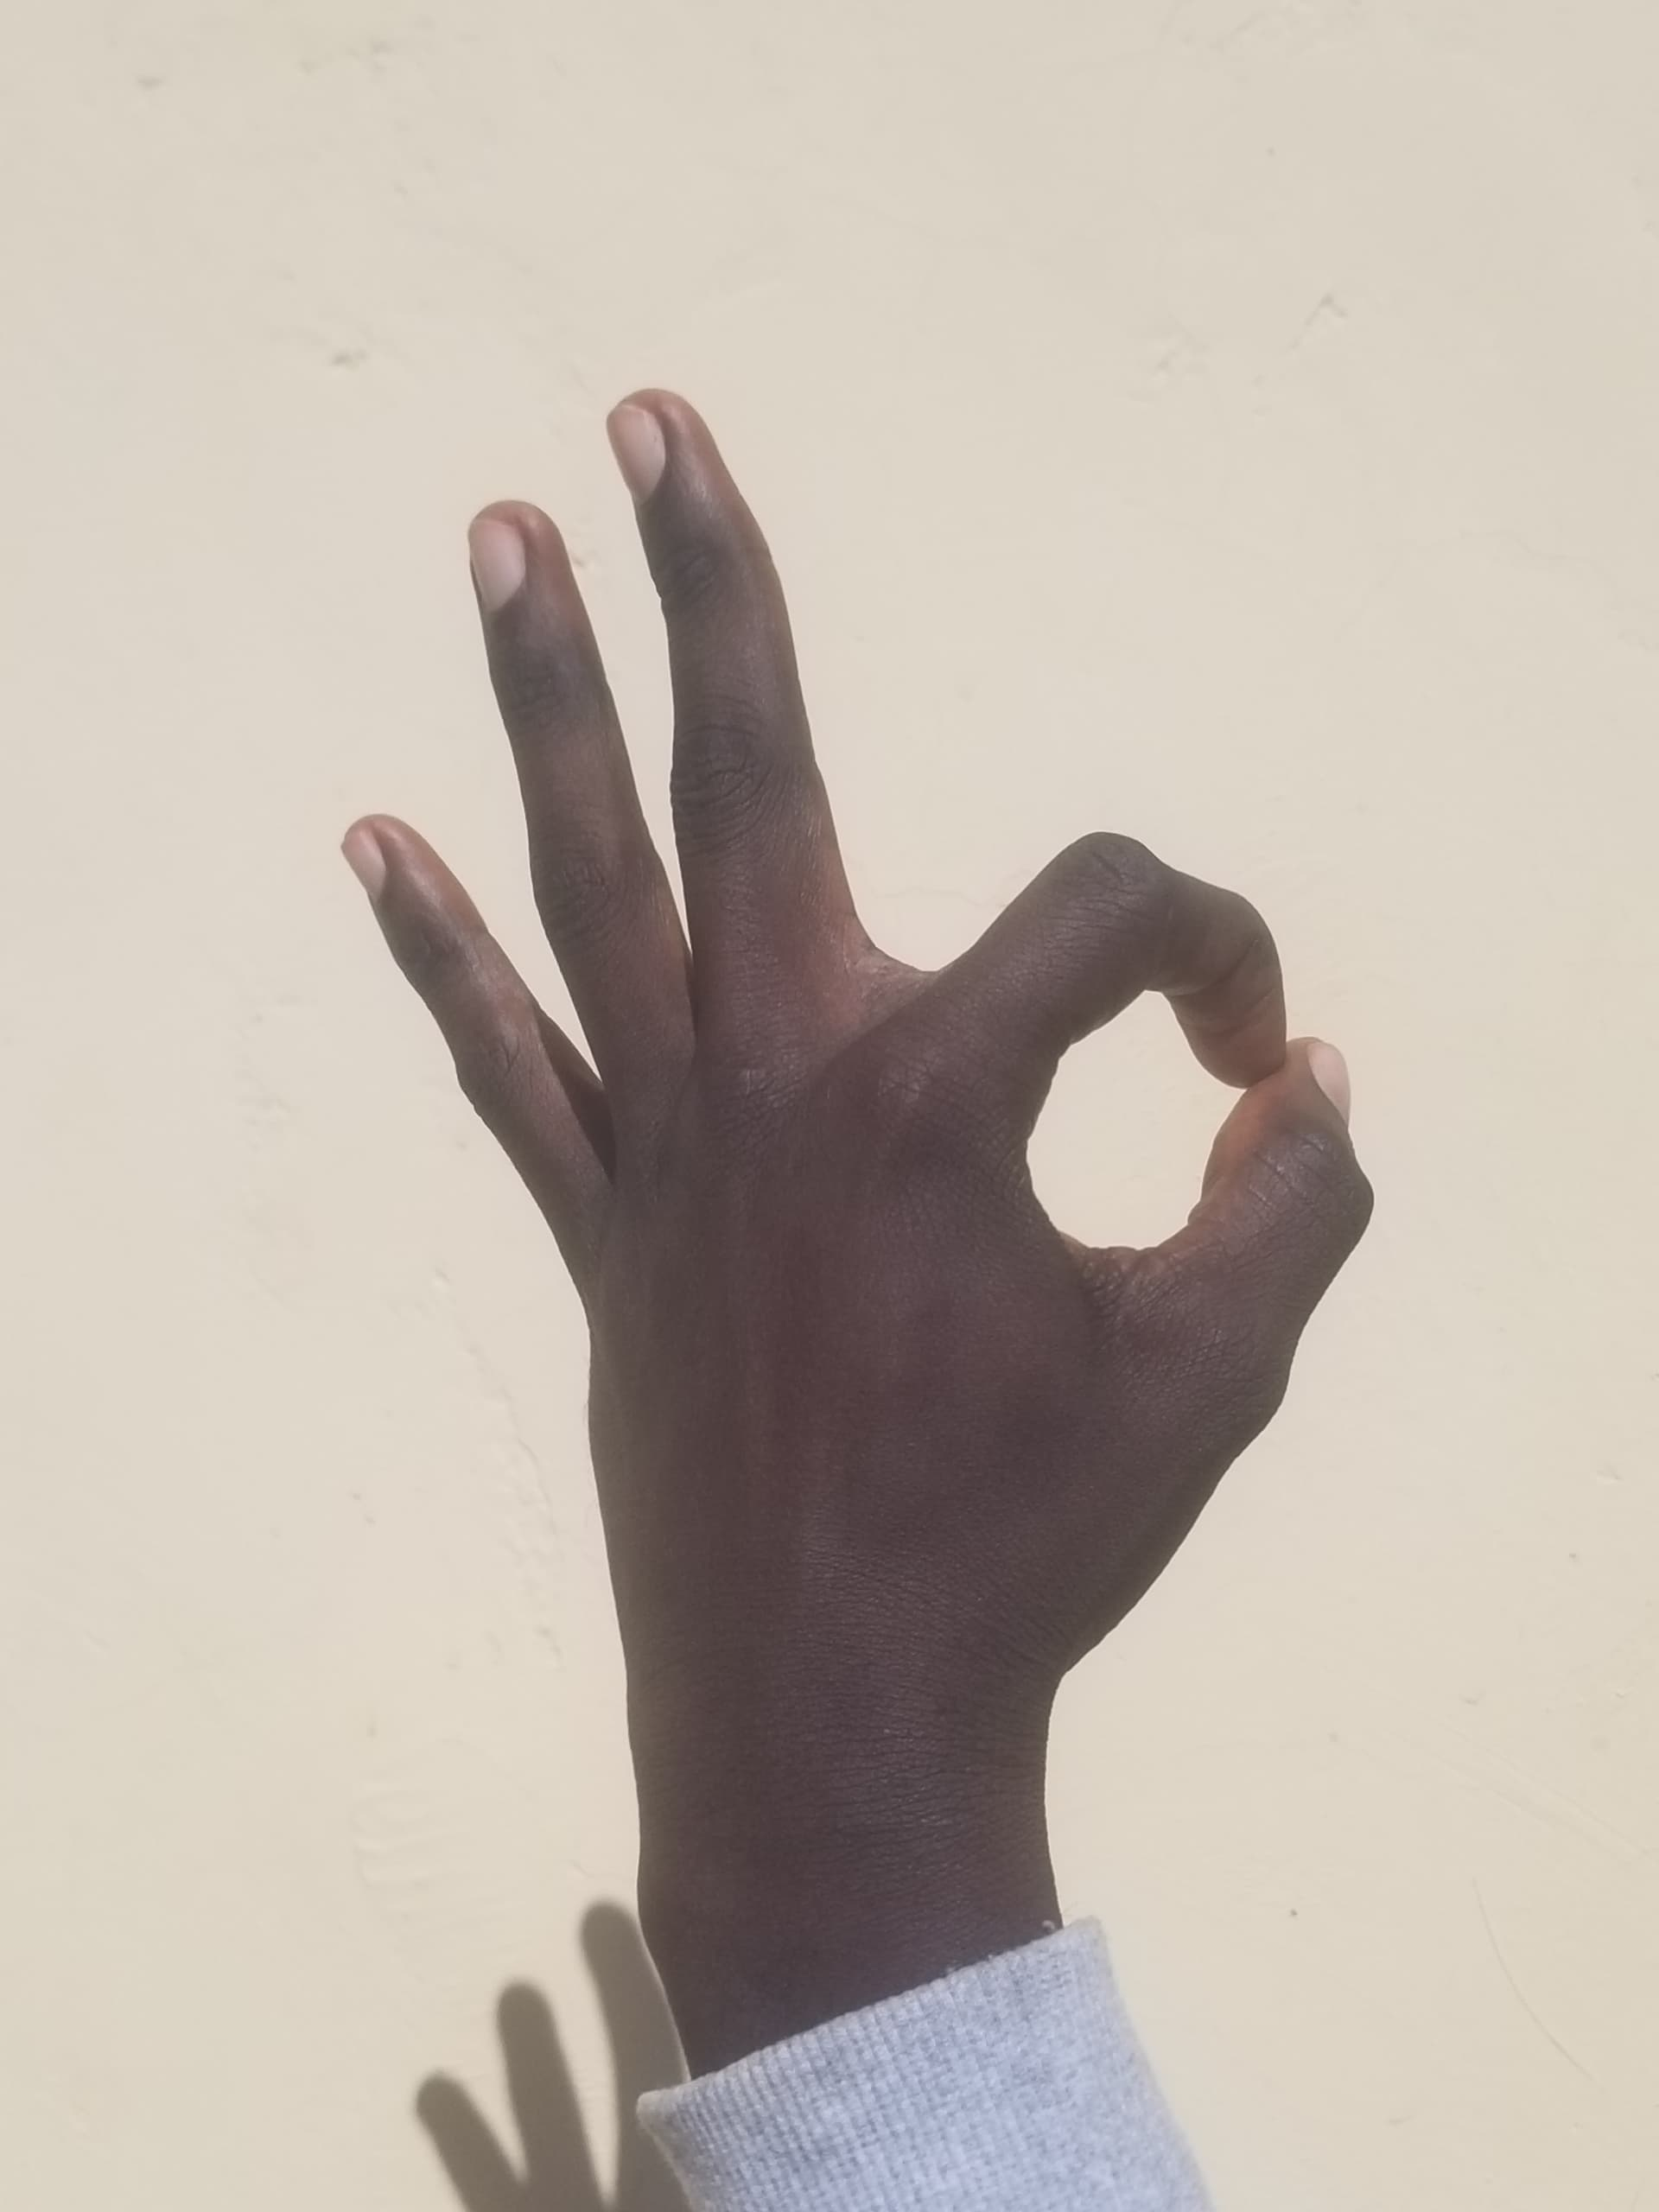okay: (239, 418, 1425, 1949)
